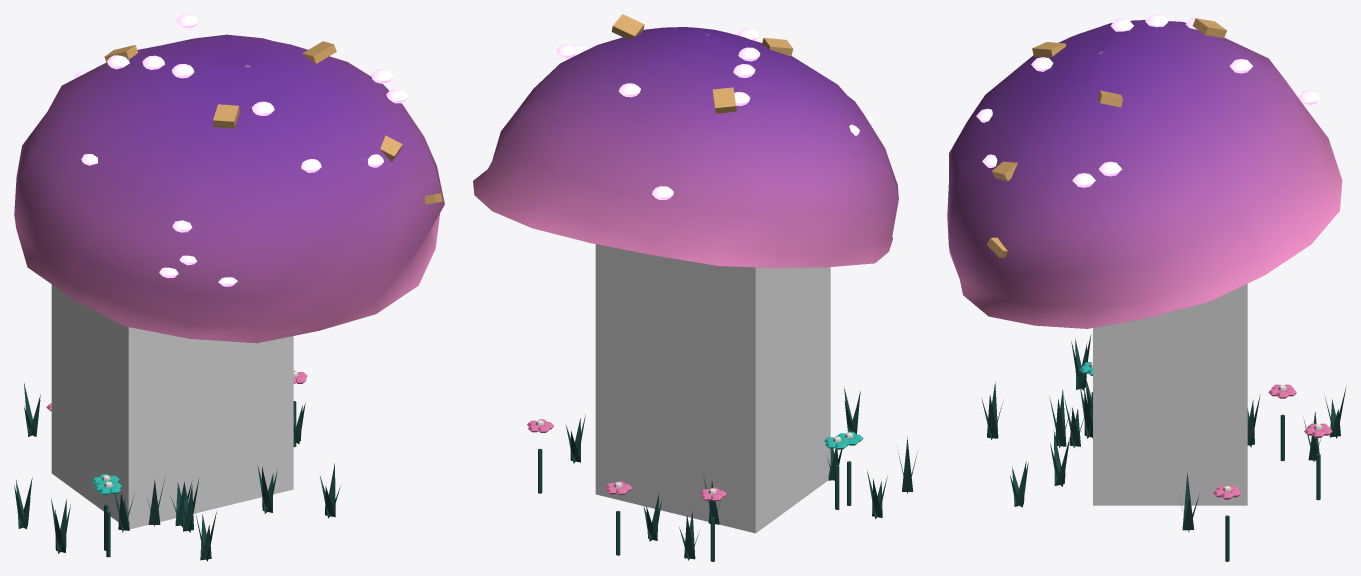
The model's file is Giant_Mushroom_C.fbx.
The picture shows the model from 3 angles, left to right: view 1: azimuth 30°, elevation 25°; view 2: azimuth 150°, elevation 25°; view 3: azimuth 270°, elevation 25°; orthographic projection. The views are drawn at different scales.
Parts seen in each view (by area): view 1: Giant_Mushroom_C_Cap, COL_Giant_Mushroom_C_0, Giant_Mushroom_C_Base_Grass, Giant_Mushroom_C_Cap_Decoration; view 2: Giant_Mushroom_C_Cap, COL_Giant_Mushroom_C_0, Giant_Mushroom_C_Base_Grass, Giant_Mushroom_C_Cap_Decoration; view 3: Giant_Mushroom_C_Cap, COL_Giant_Mushroom_C_0, Giant_Mushroom_C_Base_Grass, Giant_Mushroom_C_Cap_Decoration.
Part boxes in pixels (x1=…): Giant_Mushroom_C_Cap: x1=14, y1=34, x2=444, y2=343; COL_Giant_Mushroom_C_0: x1=51, y1=284, x2=293, y2=529; Giant_Mushroom_C_Base_Grass: x1=14, y1=370, x2=340, y2=561; Giant_Mushroom_C_Cap_Decoration: x1=74, y1=14, x2=442, y2=286; Giant_Mushroom_C_Cap: x1=473, y1=27, x2=898, y2=268; COL_Giant_Mushroom_C_0: x1=595, y1=244, x2=830, y2=533; Giant_Mushroom_C_Base_Grass: x1=527, y1=386, x2=917, y2=561; Giant_Mushroom_C_Cap_Decoration: x1=556, y1=14, x2=891, y2=199; Giant_Mushroom_C_Cap: x1=947, y1=20, x2=1342, y2=328; COL_Giant_Mushroom_C_0: x1=1093, y1=284, x2=1247, y2=505; Giant_Mushroom_C_Base_Grass: x1=981, y1=334, x2=1346, y2=561; Giant_Mushroom_C_Cap_Decoration: x1=976, y1=14, x2=1320, y2=257.
Size of the model in its own units: 2.36 by 2.57 by 2.02.
Materials: 9 (1 with a texture image).
